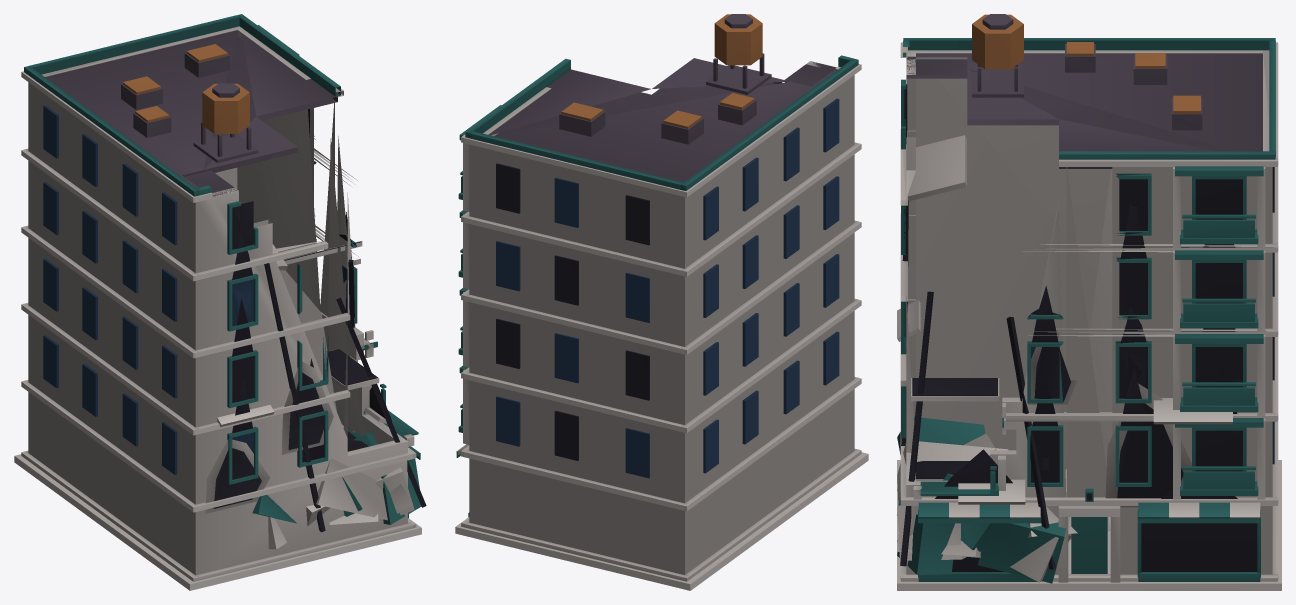
3 views of the same model, side by side, from view 1: azimuth 30°, elevation 25°; view 2: azimuth 150°, elevation 25°; view 3: azimuth 270°, elevation 25° (orthographic). The views are drawn at different scales.
Parts seen in each view (by area): view 1: body_pal_picketWhite, roof_pal_asphalt, body_pal_backpackTeal, body_pal_blueTrim, body_pal_uiDark, roof_pal_woodWarm; view 2: body_pal_picketWhite, roof_pal_asphalt, body_pal_blueTrim, body_pal_uiDark, body_pal_backpackTeal, roof_pal_woodWarm; view 3: body_pal_picketWhite, body_pal_backpackTeal, body_pal_uiDark, roof_pal_asphalt, roof_pal_woodWarm, door_front_pal_backpackTeal.
Boxes of the visible parts, box(x1,y1,x2,y2) form: body_pal_picketWhite: box(14, 26, 421, 590); roof_pal_asphalt: box(45, 30, 337, 196); body_pal_backpackTeal: box(24, 14, 421, 524); body_pal_blueTrim: box(43, 105, 347, 474); body_pal_uiDark: box(213, 109, 426, 532); roof_pal_woodWarm: box(123, 44, 249, 133); body_pal_picketWhite: box(455, 61, 868, 590); roof_pal_asphalt: box(489, 14, 836, 182); body_pal_blueTrim: box(496, 98, 839, 478); body_pal_uiDark: box(496, 163, 649, 460); body_pal_backpackTeal: box(456, 55, 858, 517); roof_pal_woodWarm: box(561, 14, 762, 128); body_pal_picketWhite: box(897, 42, 1281, 590); body_pal_backpackTeal: box(897, 38, 1275, 583); body_pal_uiDark: box(900, 84, 1274, 571); roof_pal_asphalt: box(907, 14, 1262, 168); roof_pal_woodWarm: box(972, 14, 1200, 113); door_front_pal_backpackTeal: box(1071, 517, 1107, 573).
Bounding box in the file's own units: 10 × 17.76 × 12.6.
